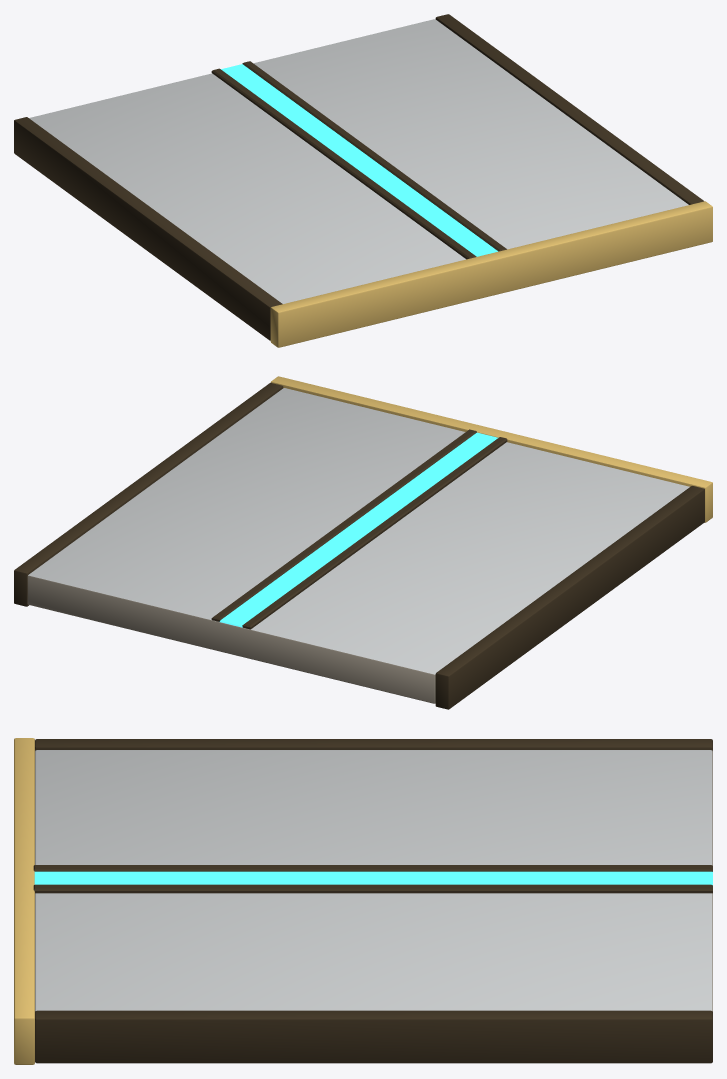
Rendered from plate.glb.
3 renders of one model, top to bottom at view 1: azimuth 30°, elevation 25°; view 2: azimuth 150°, elevation 25°; view 3: azimuth 270°, elevation 25°, orthographic. The views are drawn at different scales.
Visible parts, largest first — view 1: plate_body, plate_line; view 2: plate_body, plate_line; view 3: plate_body, plate_line.
Part boxes in pixels (x1,y1,x2,y2): plate_body: (14, 14, 712, 347); plate_line: (211, 61, 506, 259); plate_body: (14, 376, 712, 709); plate_line: (211, 429, 507, 629); plate_body: (14, 738, 712, 1064); plate_line: (33, 865, 712, 893).
Bounding box in the file's own units: 3.8 × 0.306 × 4.
